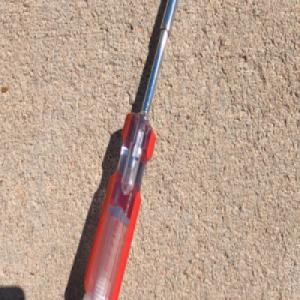Screwdriver: (81, 0, 180, 300)
